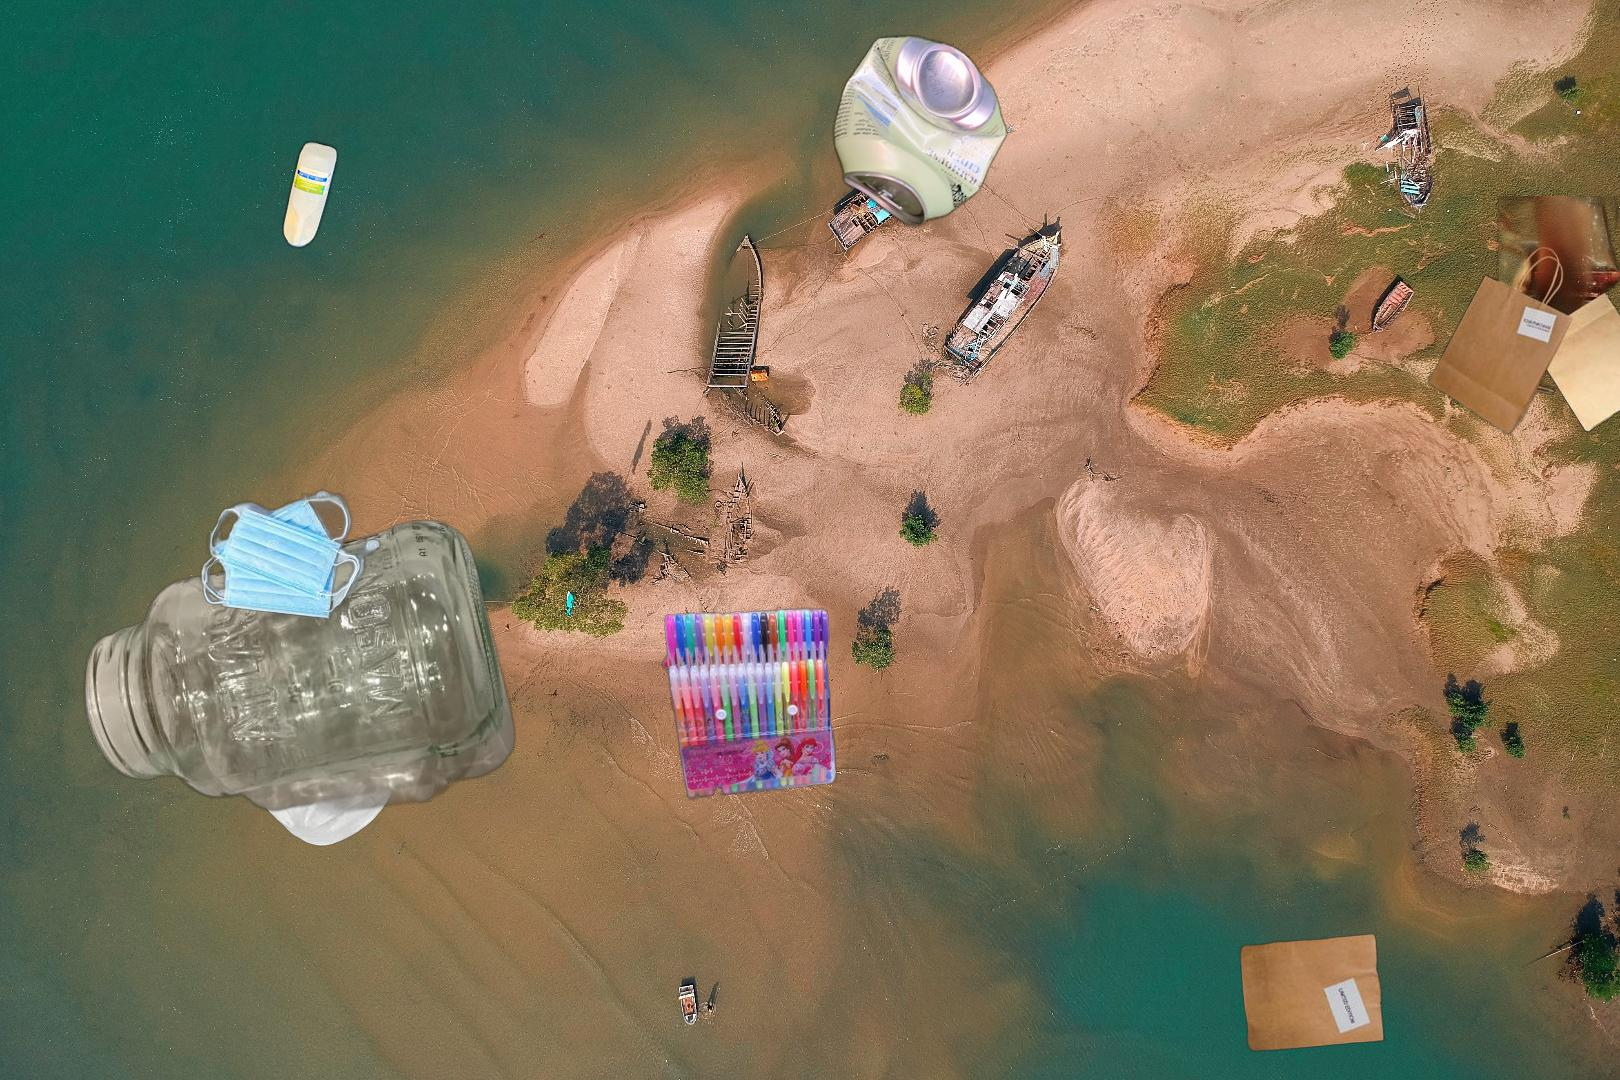glass: (80, 517, 520, 835)
metal-cans: (828, 29, 1011, 231)
paper-bag: (1399, 196, 1620, 436), (1237, 931, 1387, 1053)
penholder: (655, 605, 839, 802)
plastic-bottles: (278, 135, 342, 253)
trash: (196, 468, 383, 621), (247, 703, 440, 849)
